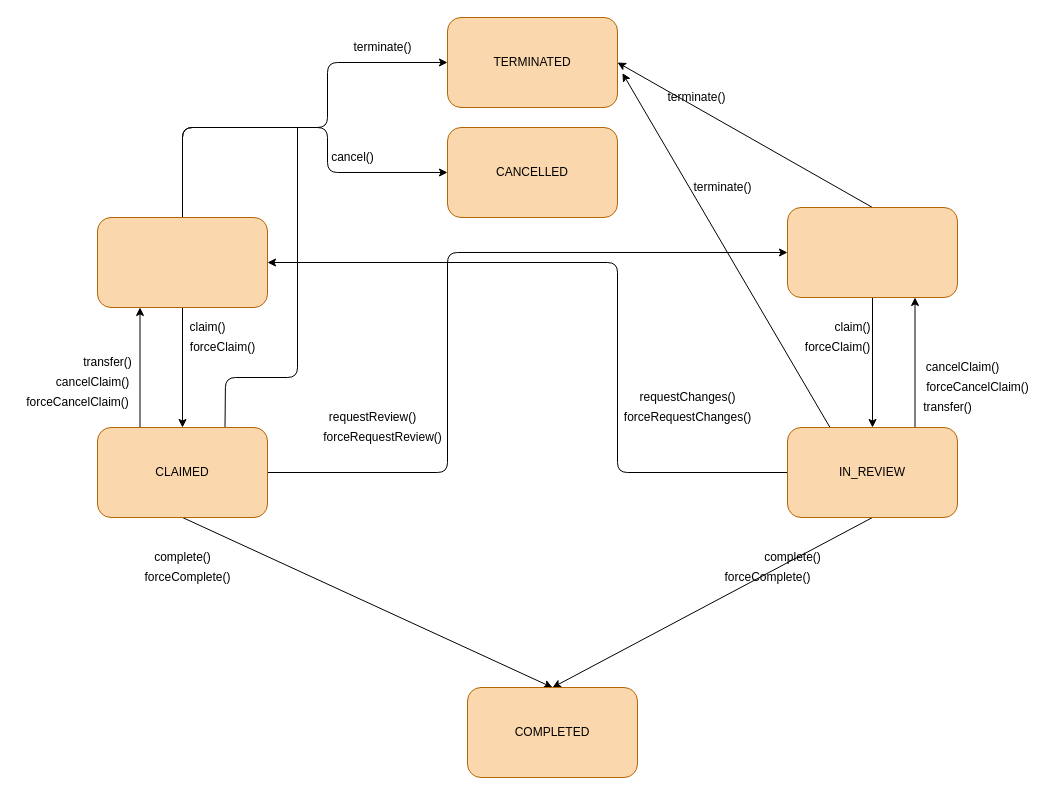
Image size: 1054x795. Some labels were removed from this diagram. Here are the shapes that lost their labels. From the top down, the centre of each, then its label:
[182,262]: READY
[872,252]: READY_FOR_REVIEW
